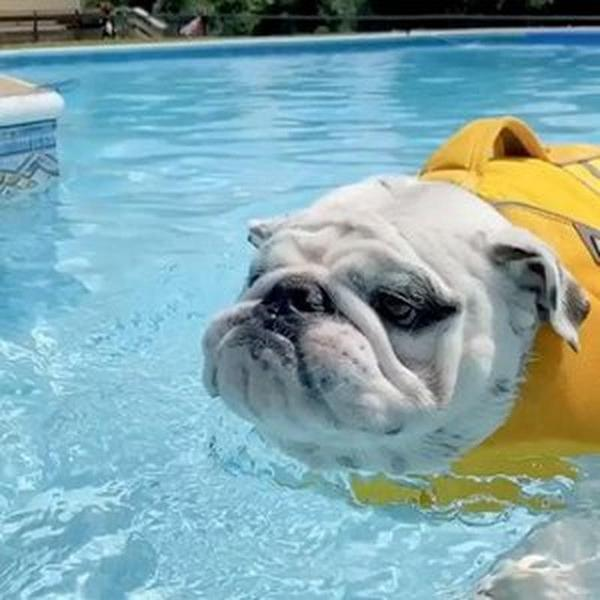allqu: (192, 156, 594, 531)
